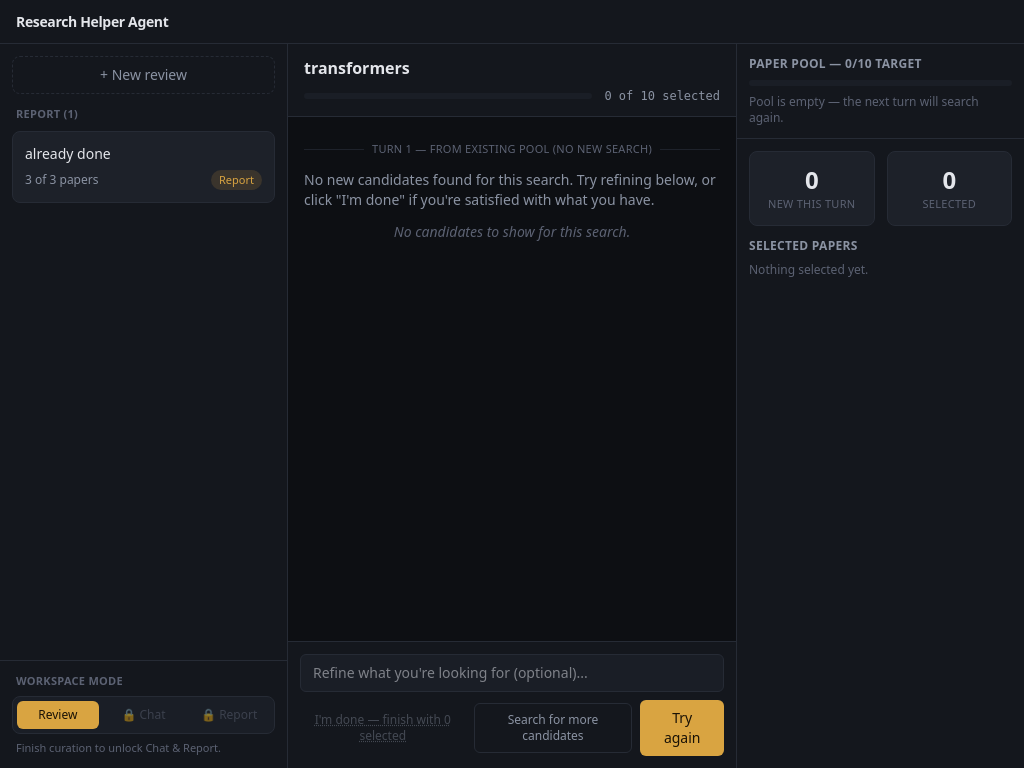
Test: App › reopening an already-finished review (mode reset to review by handleSelectReview) stays on Review, not bounced to Report (Phase 8, item 3 fallout)
Expected: the button with test id "review-continue" is shown, [640,700,724,756]
What coordinates should you click on to do the following:
click the button with test id "review-card-s2"
I would click on:
 (68, 153)
Its box is [12,130,275,203].
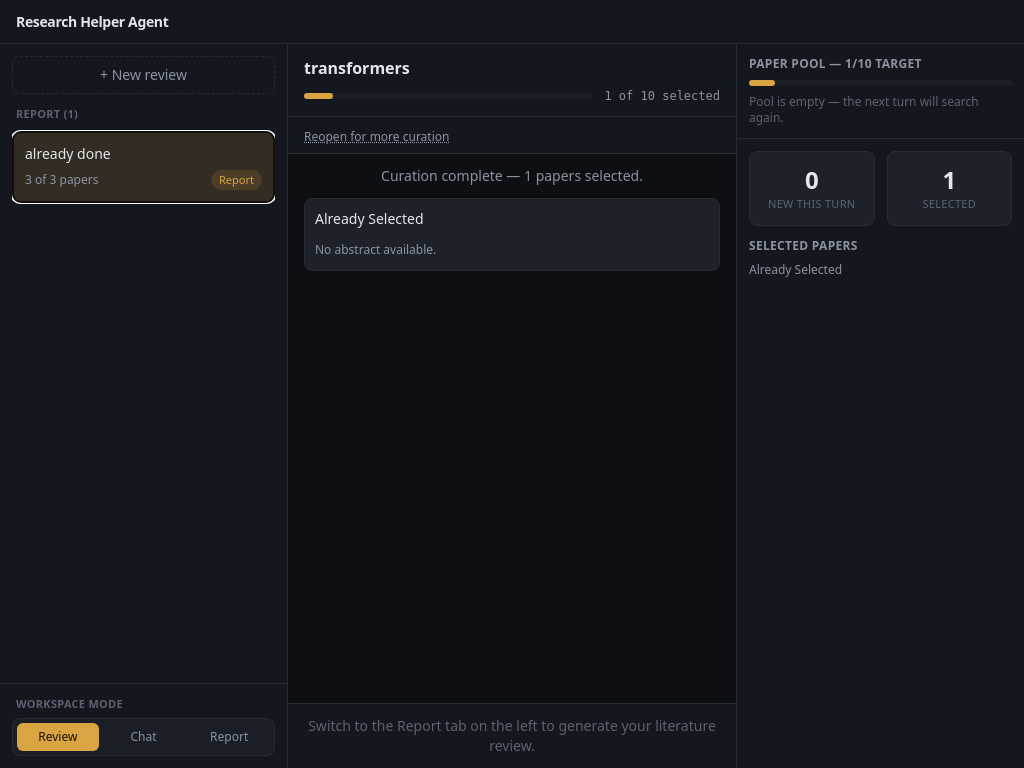
Expected: the element with test id "generate-report" is not shown
Now the text "Already Selected" below "Curation complete — 1 papers selected." is shown, box [315,209,424,228]
